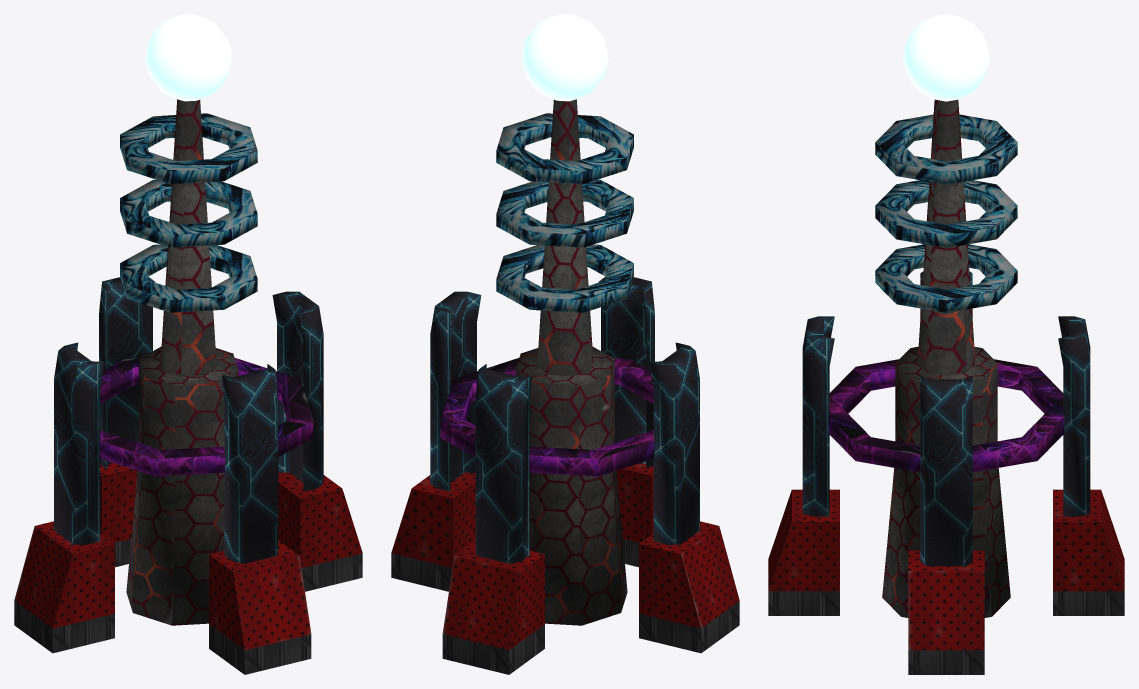
Rendered from TeslaShocker.fbx.
3 renders of one model, left to right at view 1: azimuth 30°, elevation 25°; view 2: azimuth 150°, elevation 25°; view 3: azimuth 270°, elevation 25°, orthographic.
Parts seen in each view (by area): view 1: Tesla_LOD0; view 2: Tesla_LOD0; view 3: Tesla_LOD0.
Part boxes in pixels (x1,y1,x2,y2): Tesla_LOD0: (14, 14, 362, 674); Tesla_LOD0: (391, 14, 739, 674); Tesla_LOD0: (768, 14, 1124, 674).
Size of what is drawn, in the model's own units: 555 by 997 by 554.
